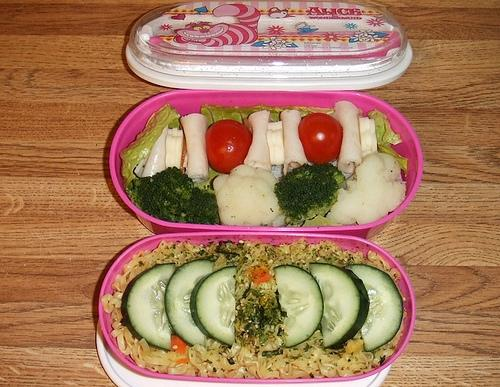broccoli: (126, 167, 220, 224), (274, 163, 346, 225)
cauliflower: (331, 153, 407, 225), (212, 165, 286, 227)
cucumber: (309, 262, 370, 350), (342, 264, 403, 352), (120, 263, 176, 352), (164, 259, 215, 346), (273, 265, 324, 349), (190, 266, 237, 348)
tomato: (206, 120, 252, 174), (298, 112, 343, 165)
